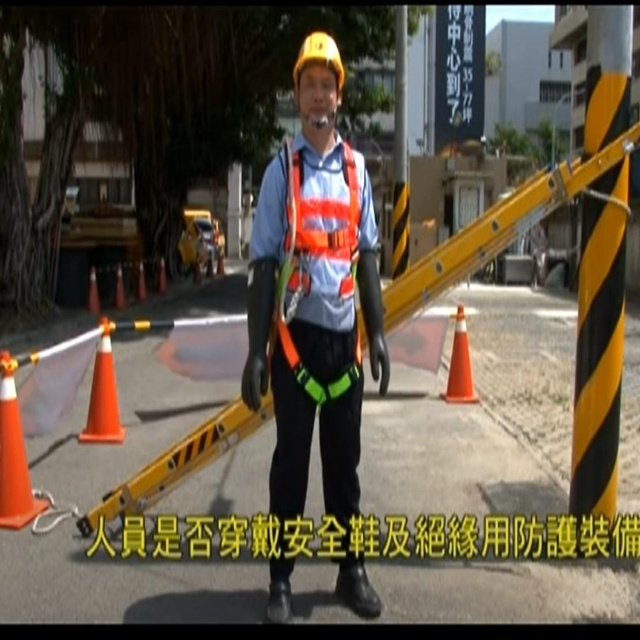Arnes_seguridad: (276, 133, 363, 407)
